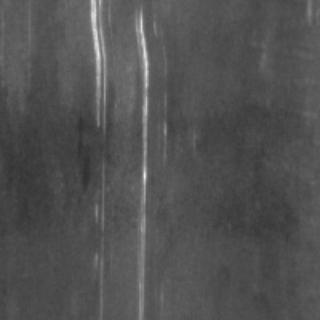scratches: (124, 2, 152, 316), (80, 0, 110, 130)
